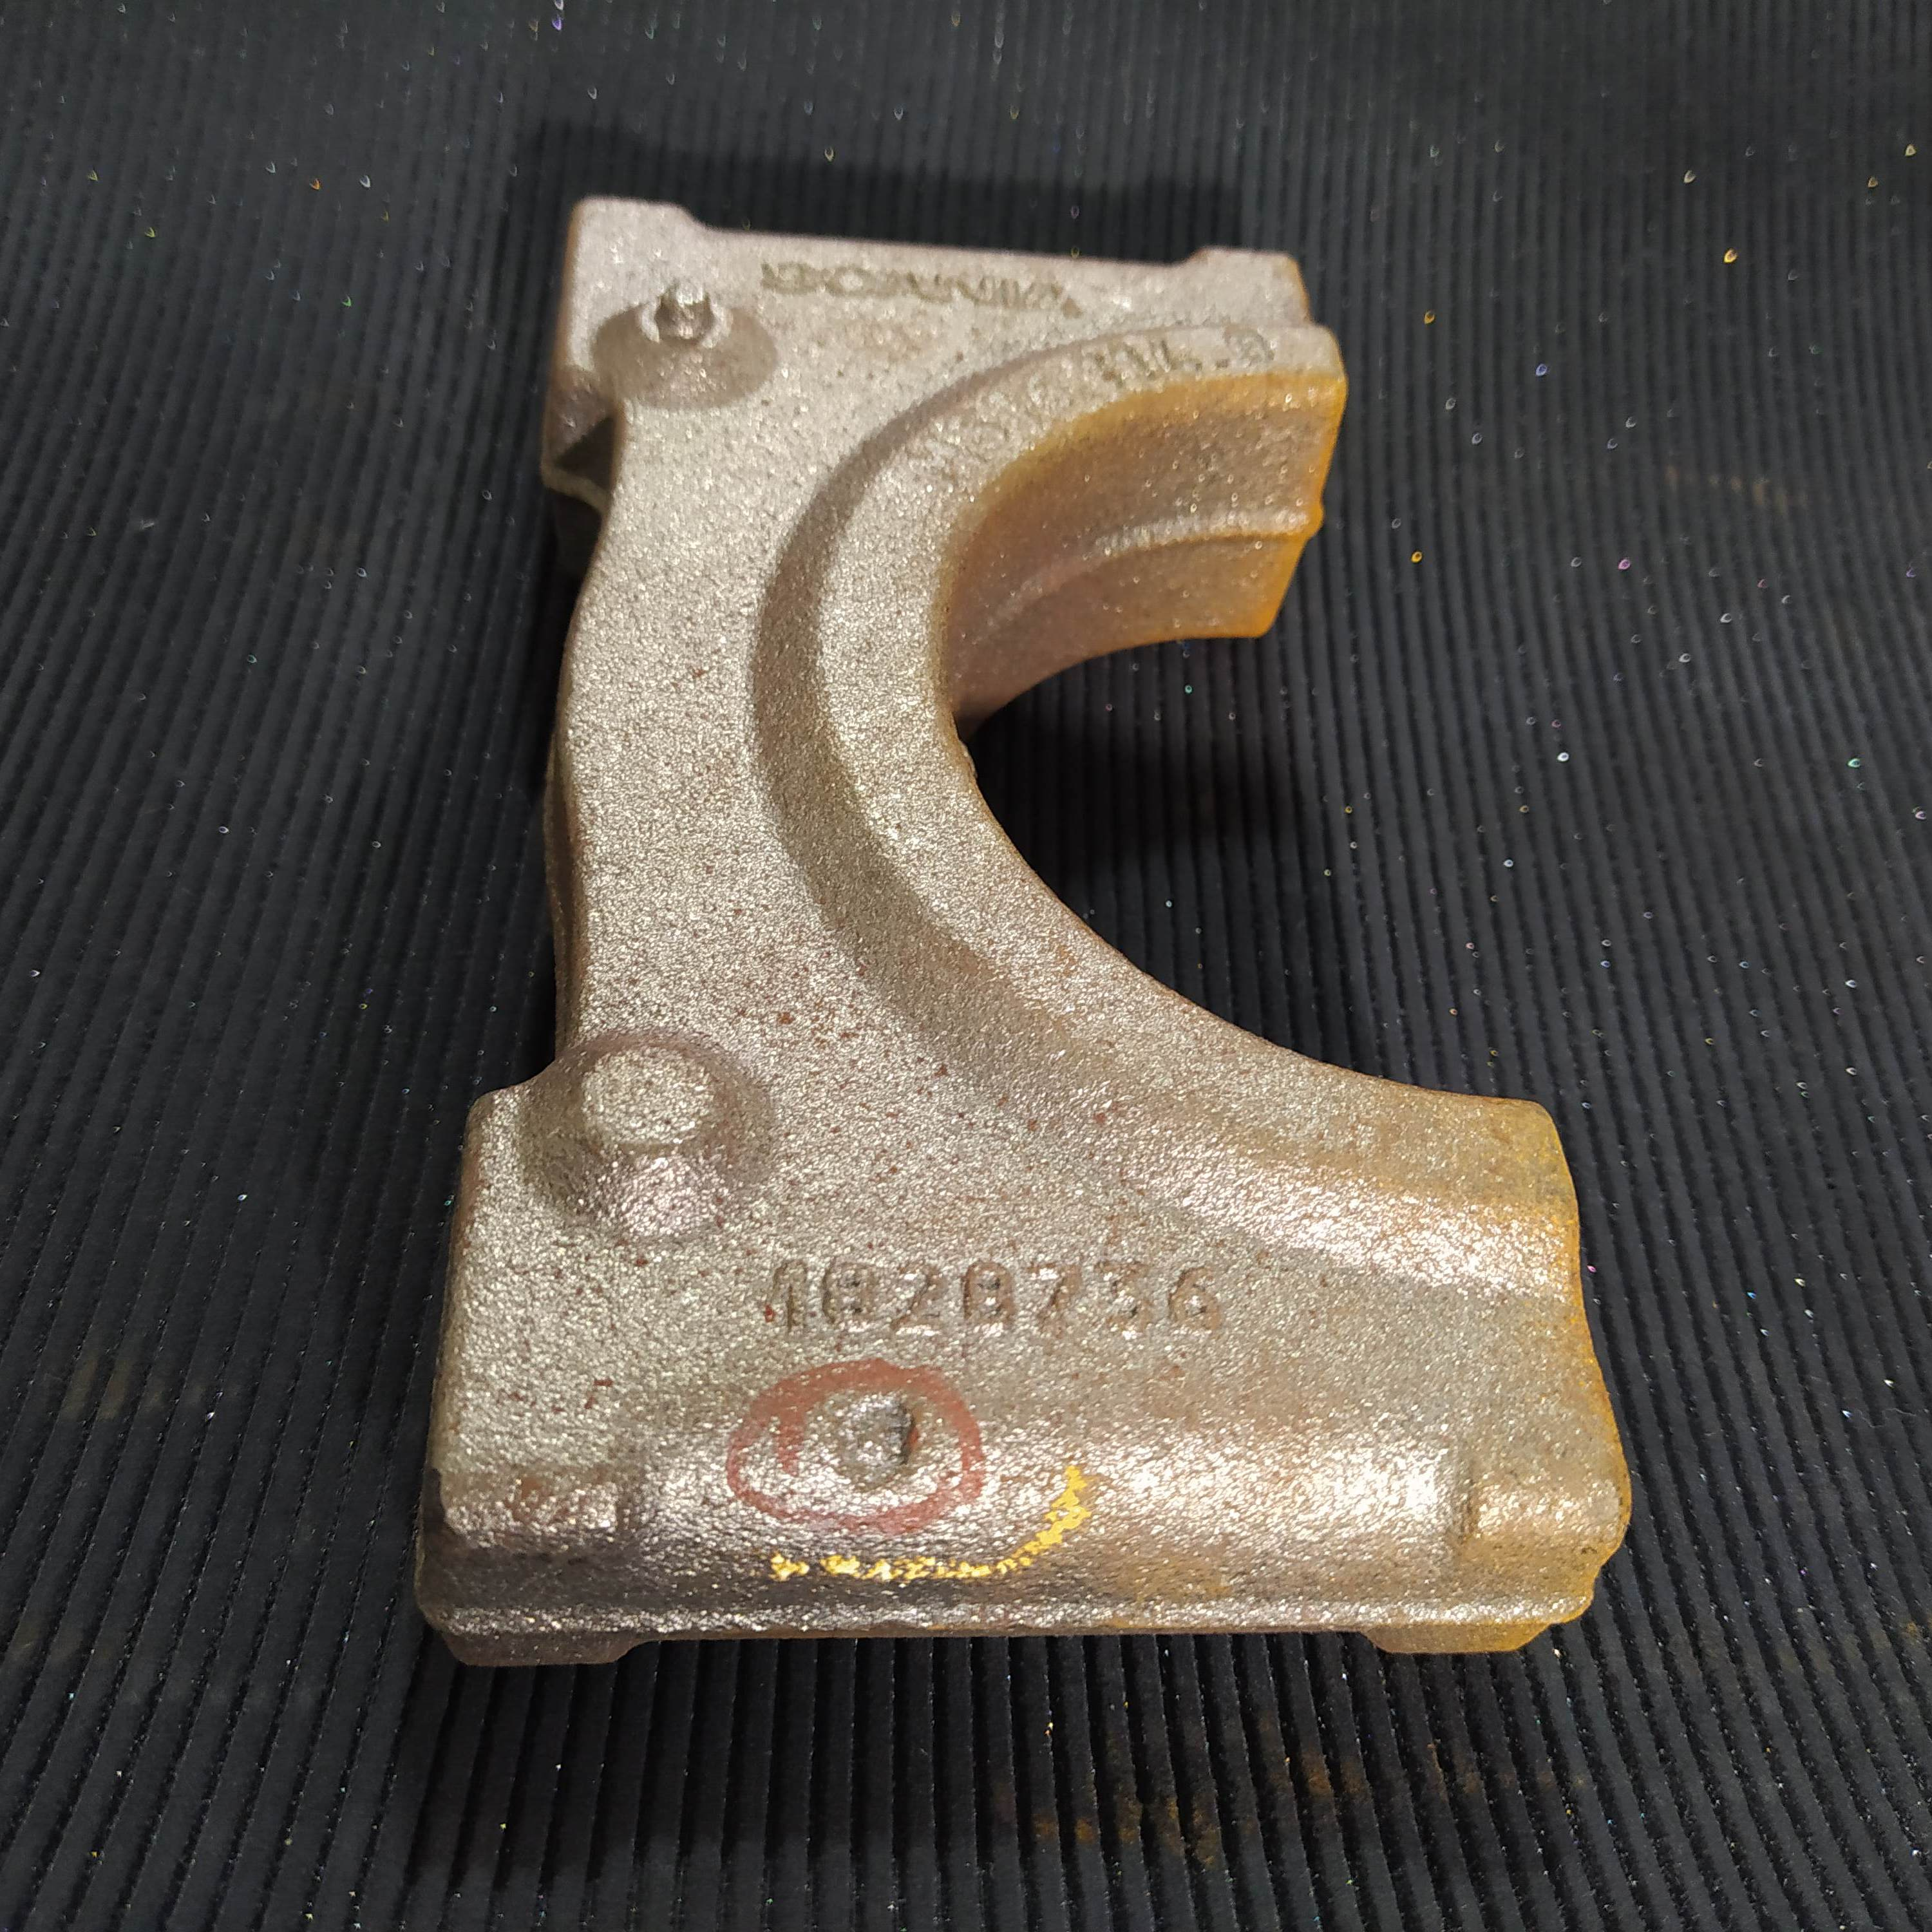buraco: (835, 1389, 925, 1495)
